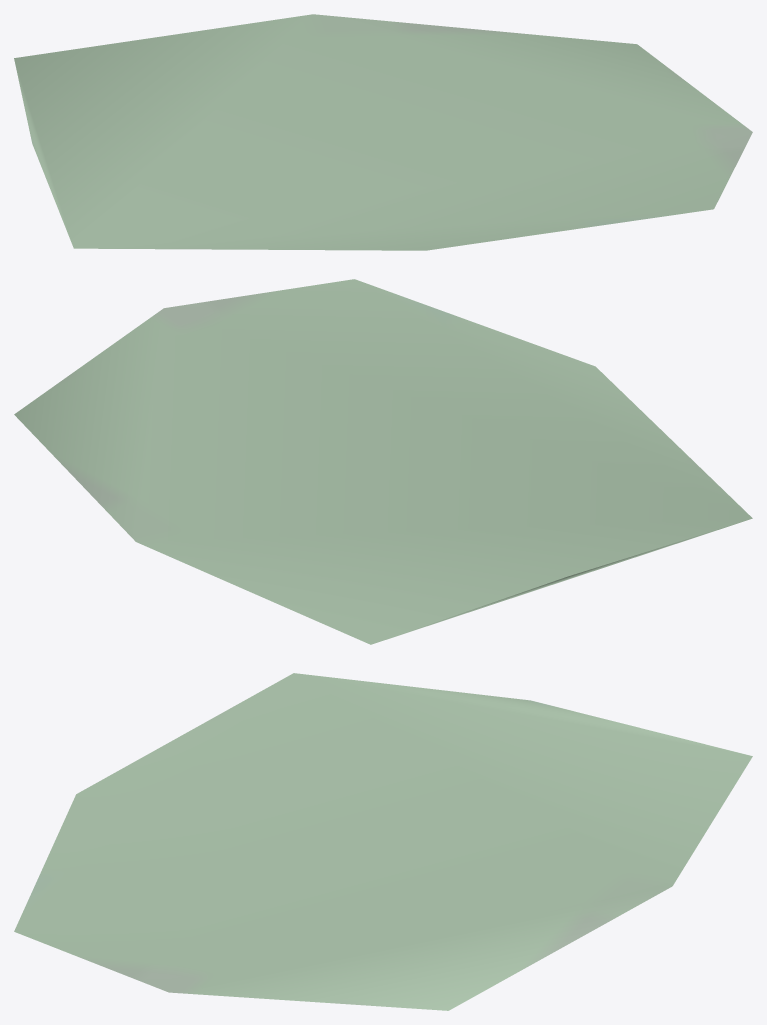
Rendered from TROLLHOLE02_HOLECAP149.fbx.
The picture shows the model from 3 angles, top to bottom: view 1: azimuth 30°, elevation 25°; view 2: azimuth 150°, elevation 25°; view 3: azimuth 270°, elevation 25°; orthographic projection. The views are drawn at different scales.
Parts seen in each view (by area): view 1: TROLLHOLE02_HOLECAP149; view 2: TROLLHOLE02_HOLECAP149; view 3: TROLLHOLE02_HOLECAP149.
Part boxes in pixels (x1,y1,x2,y2): TROLLHOLE02_HOLECAP149: (14,14,752,250); TROLLHOLE02_HOLECAP149: (14,279,752,644); TROLLHOLE02_HOLECAP149: (14,673,752,1010).
Size of the model in its own units: 43678 by 878 by 40766.
1 material, 1 textured.
